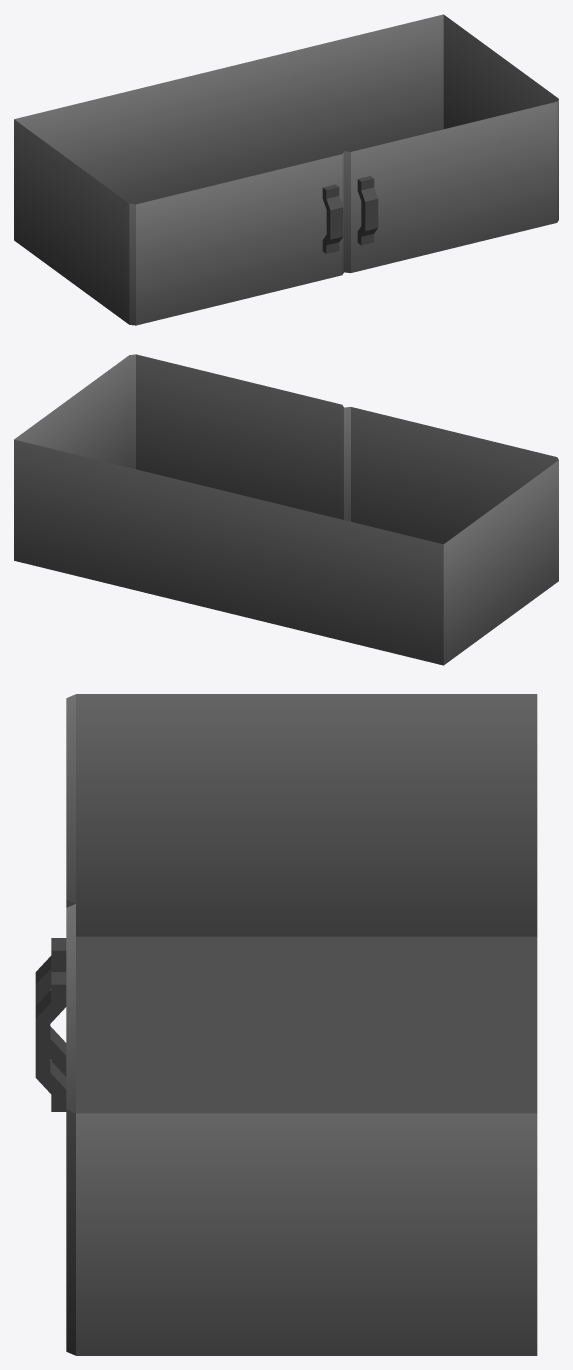
File: Counter_01_v05_D.fbx
The picture shows the model from 3 angles, top to bottom: view 1: azimuth 30°, elevation 25°; view 2: azimuth 150°, elevation 25°; view 3: azimuth 270°, elevation 25°; orthographic projection. The views are drawn at different scales.
Parts seen in each view (by area): view 1: Counter_01_v05_D; view 2: Counter_01_v05_D; view 3: Counter_01_v05_D.
Boxes of the visible parts, box(x1,y1,x2,y2) form: Counter_01_v05_D: box(14, 14, 558, 325); Counter_01_v05_D: box(14, 354, 558, 665); Counter_01_v05_D: box(35, 694, 537, 1355).
Bounding box in the file's own units: 200 × 53.91 × 101.
